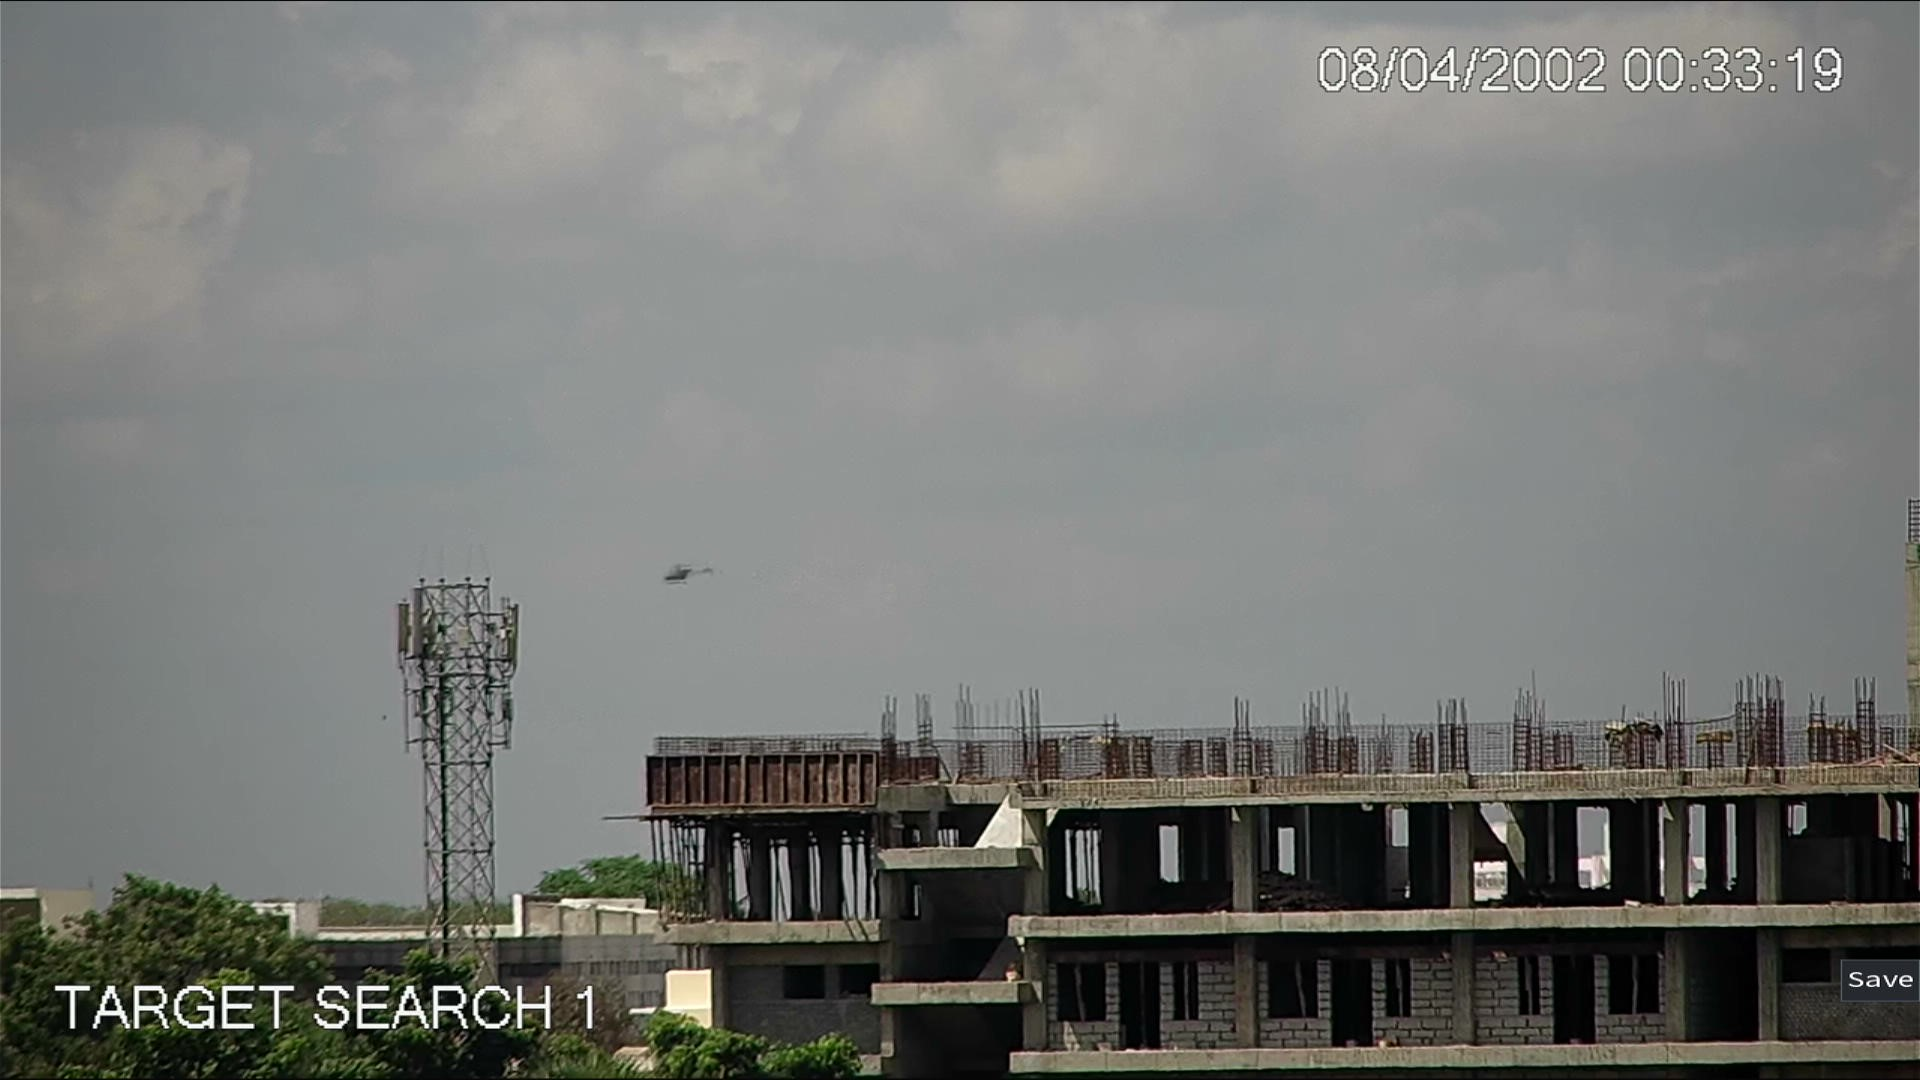SU_30: (663, 559, 717, 589)
